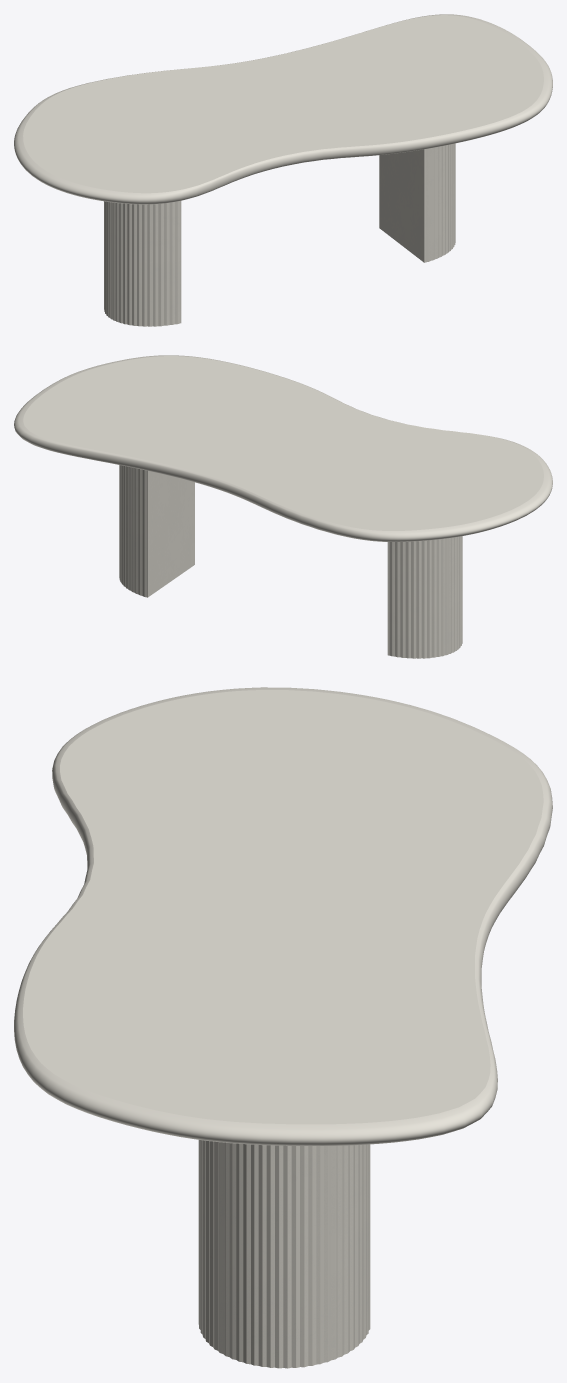
The model's file is pale_wave_round_flute.glb.
3 views of the same model, one above another, from view 1: azimuth 30°, elevation 25°; view 2: azimuth 150°, elevation 25°; view 3: azimuth 270°, elevation 25° (orthographic). The views are drawn at different scales.
Visible parts, largest first — view 1: round_wave, flute; view 2: round_wave, flute; view 3: round_wave, flute.
Part boxes in pixels (bbox=[...]): round_wave: bbox=[14, 14, 552, 204]; flute: bbox=[104, 143, 455, 326]; round_wave: bbox=[14, 355, 552, 541]; flute: bbox=[119, 465, 462, 658]; round_wave: bbox=[14, 687, 552, 1145]; flute: bbox=[198, 1140, 370, 1368].
Size of the model in its own units: 7.76 by 2.5 by 3.93.
1 material, 1 textured.
